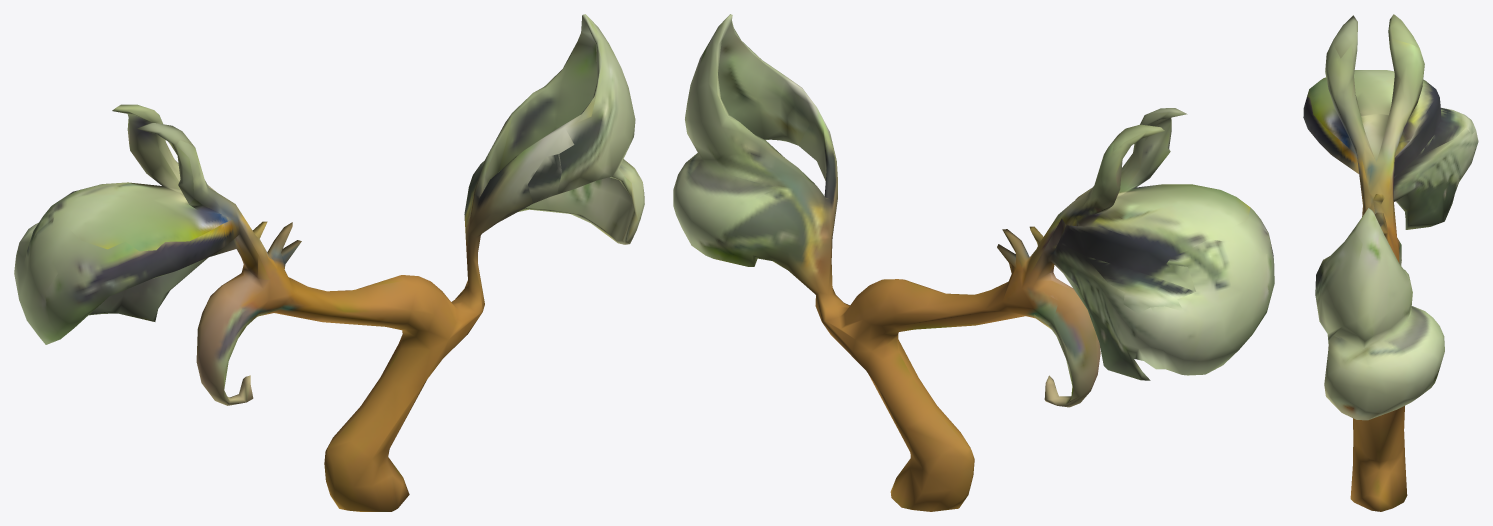
Rendered from Tree02.fbx.
3 renders of one model, left to right at view 1: azimuth 30°, elevation 25°; view 2: azimuth 150°, elevation 25°; view 3: azimuth 270°, elevation 25°, orthographic. The views are drawn at different scales.
Parts seen in each view (by area): view 1: node_0.006; view 2: node_0.006; view 3: node_0.006.
Boxes of the visible parts, x1,y1,x2,y2 form: node_0.006: (14, 14, 644, 511); node_0.006: (673, 14, 1274, 511); node_0.006: (1303, 14, 1478, 511).
Bounding box in the file's own units: 26.36 × 18.97 × 7.89.
1 material, 1 textured.
